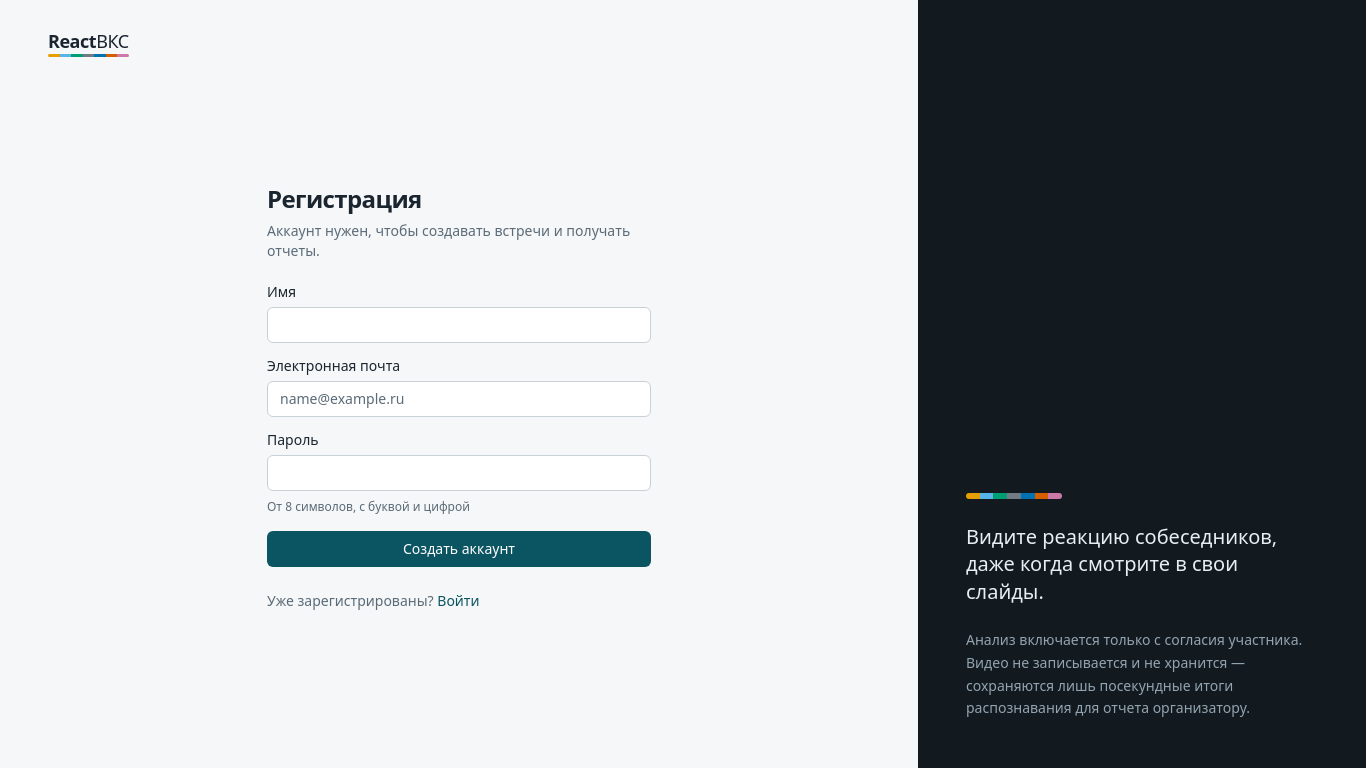
Scenario: регистрация › регистрирует и сразу входит
The image size is (1366, 768).
Expected: the heading "Регистрация" is shown, [267, 182, 422, 214]
In the field labelled "Имя": (459, 324) [267, 306, 651, 342], type "Иван Петров"
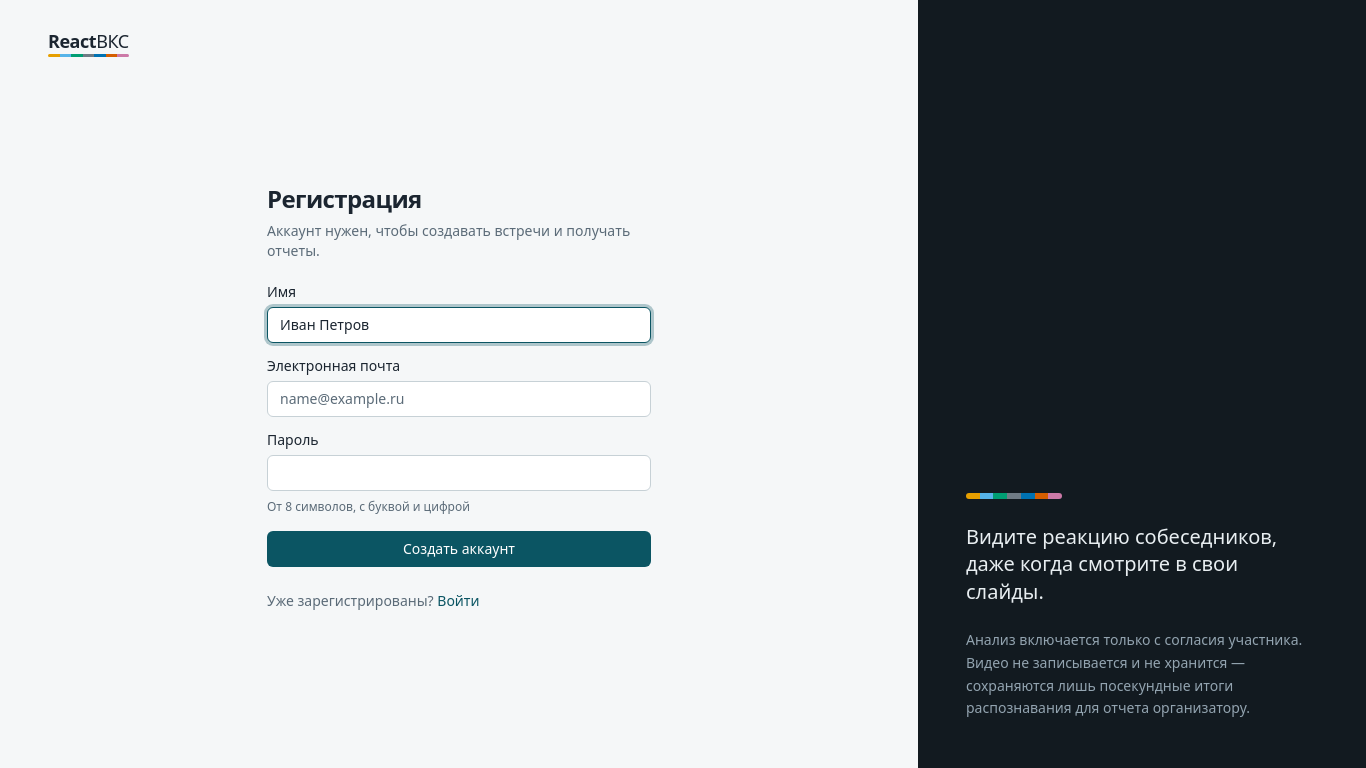
In the field labelled "Электронная почта": (459, 398) [267, 380, 651, 416], type "ivan@example.ru"
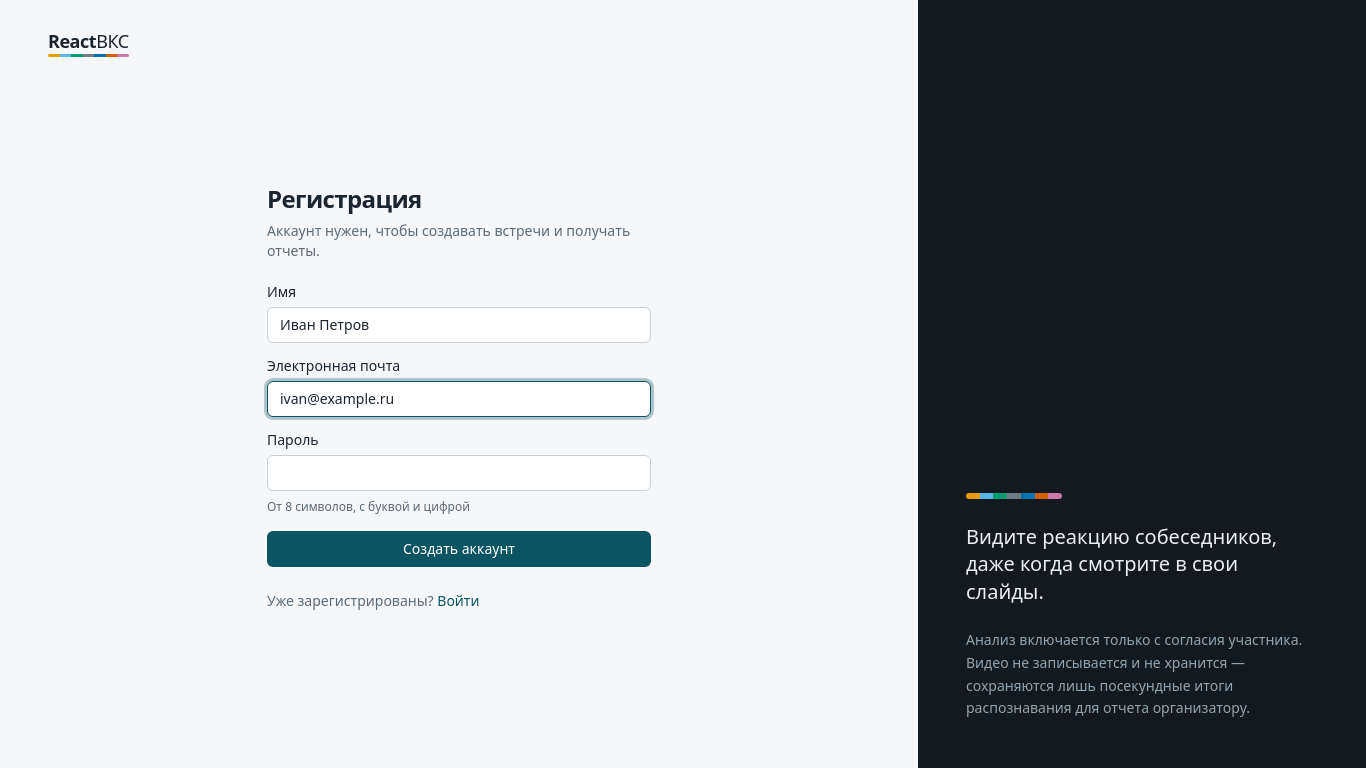
In the password field labelled "Пароль": (459, 472) [267, 454, 651, 490], type "Passw0rd1"
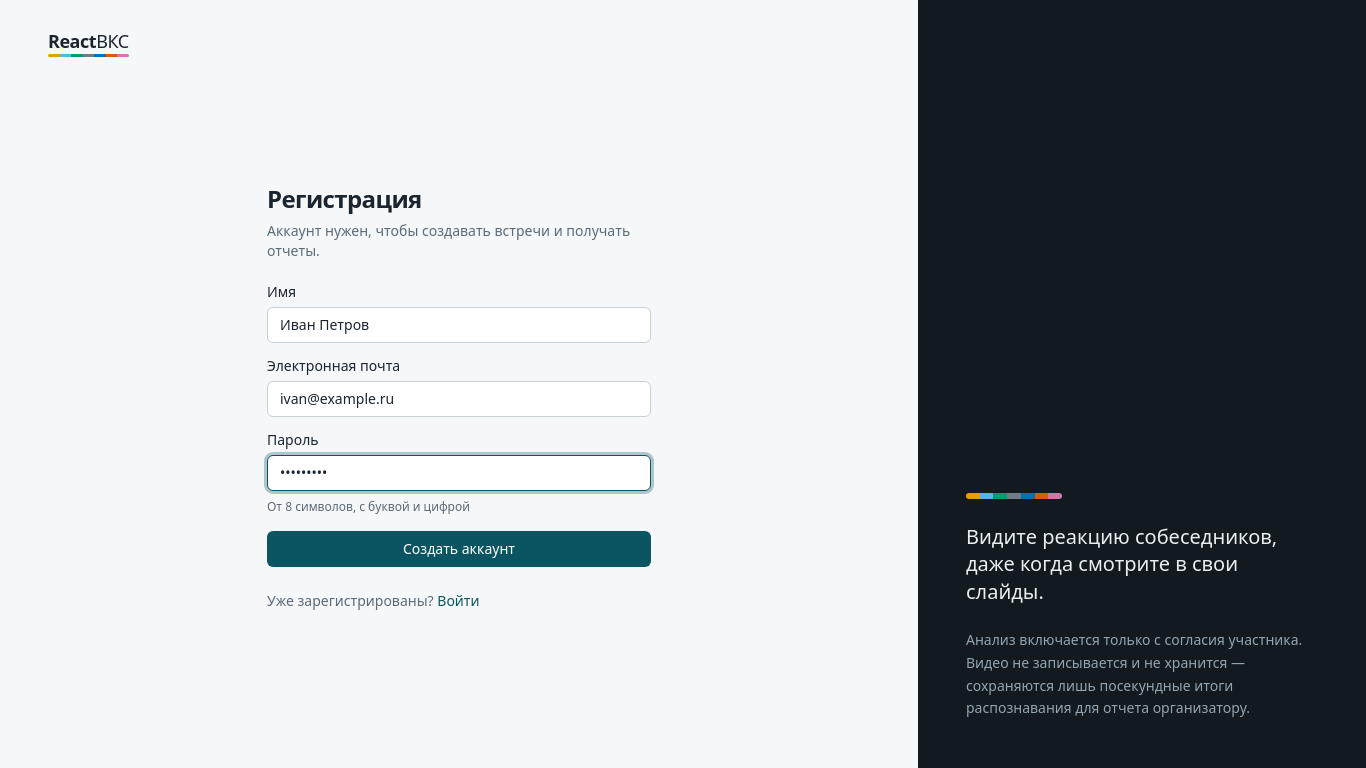
Click the button "Создать аккаунт": (459, 548) [267, 530, 651, 566]
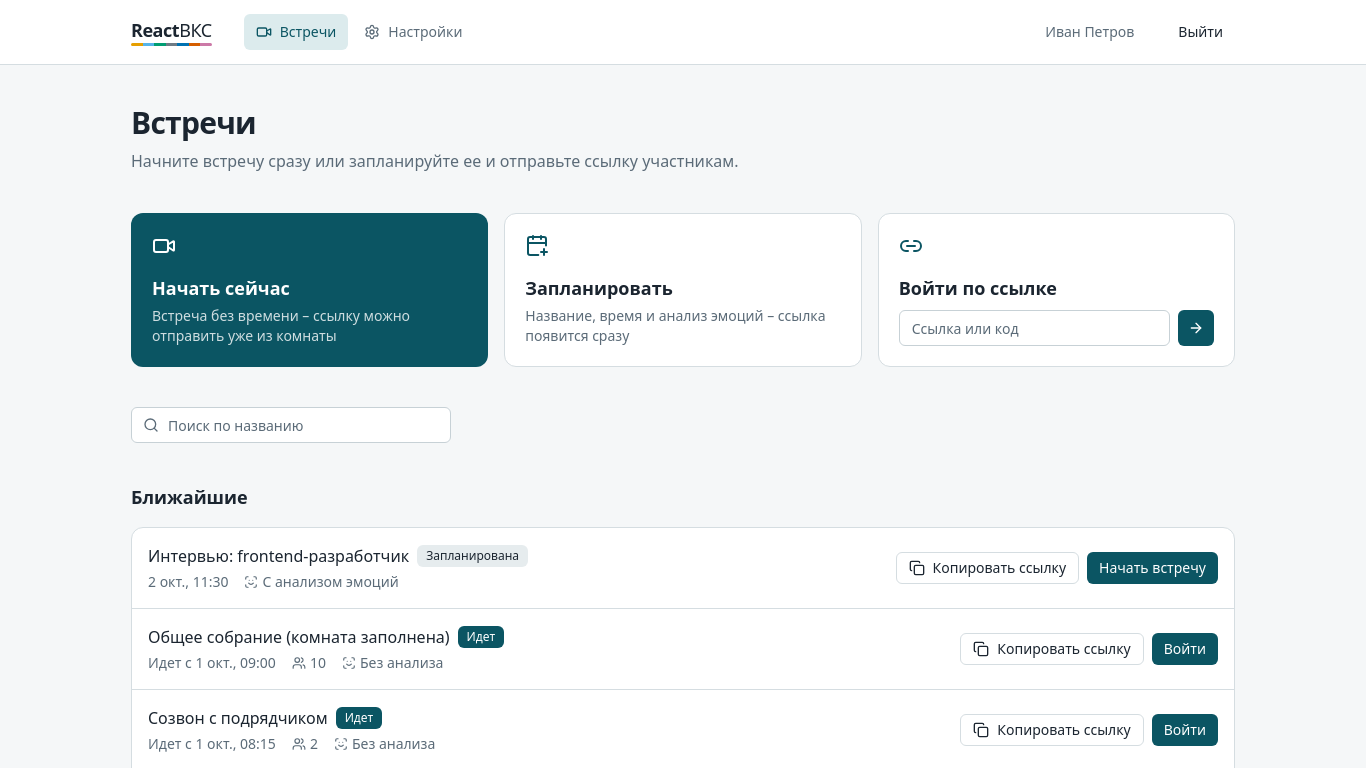
Expected: the heading "Встречи" is shown, [131, 102, 256, 143]
